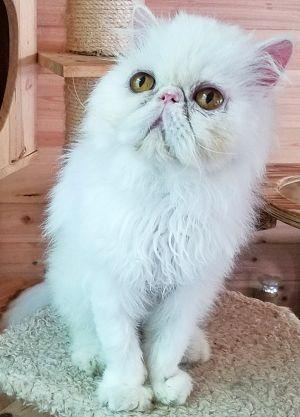persian: (89, 1, 296, 205)
